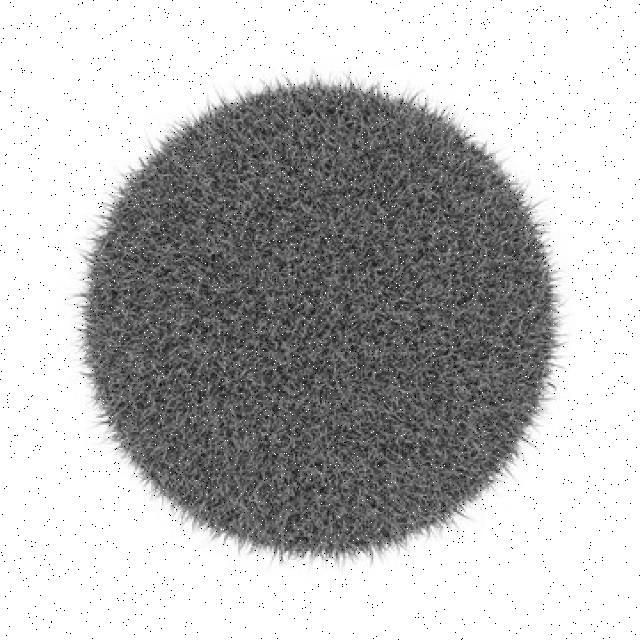Circle: (86, 80, 555, 553)
